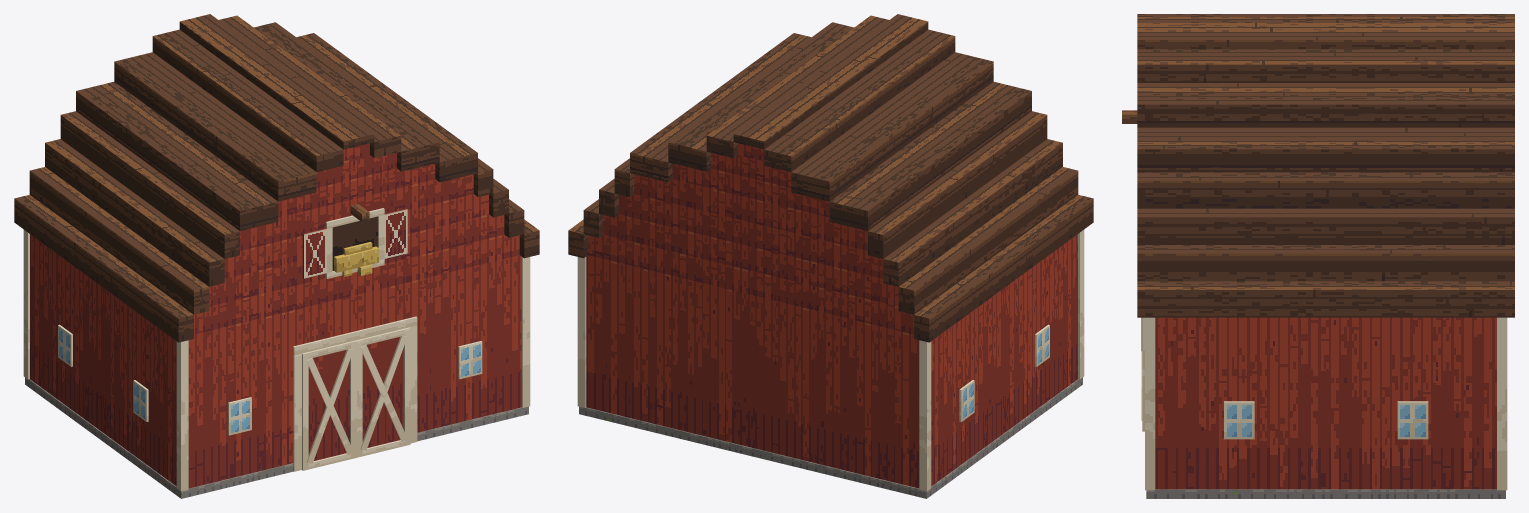
Rendered from barn.glb.
The picture shows the model from 3 angles, left to right: view 1: azimuth 30°, elevation 25°; view 2: azimuth 150°, elevation 25°; view 3: azimuth 270°, elevation 25°; orthographic projection. The views are drawn at different scales.
Visible parts, largest first — view 1: root, door_r_bone, door_l_bone; view 2: root; view 3: root, door_l_bone.
Part boxes in pixels (left/top/right/bottom): root: left=14, top=14, right=539, bottom=498; door_r_bone: left=302, top=340, right=356, bottom=470; door_l_bone: left=356, top=327, right=410, bottom=457; root: left=568, top=14, right=1093, bottom=498; root: left=1122, top=14, right=1514, bottom=498; door_l_bone: left=1141, top=317, right=1144, bottom=431.
Bounding box in the file's own units: 11.75 × 10 × 9.62.
1 material, 1 textured.
